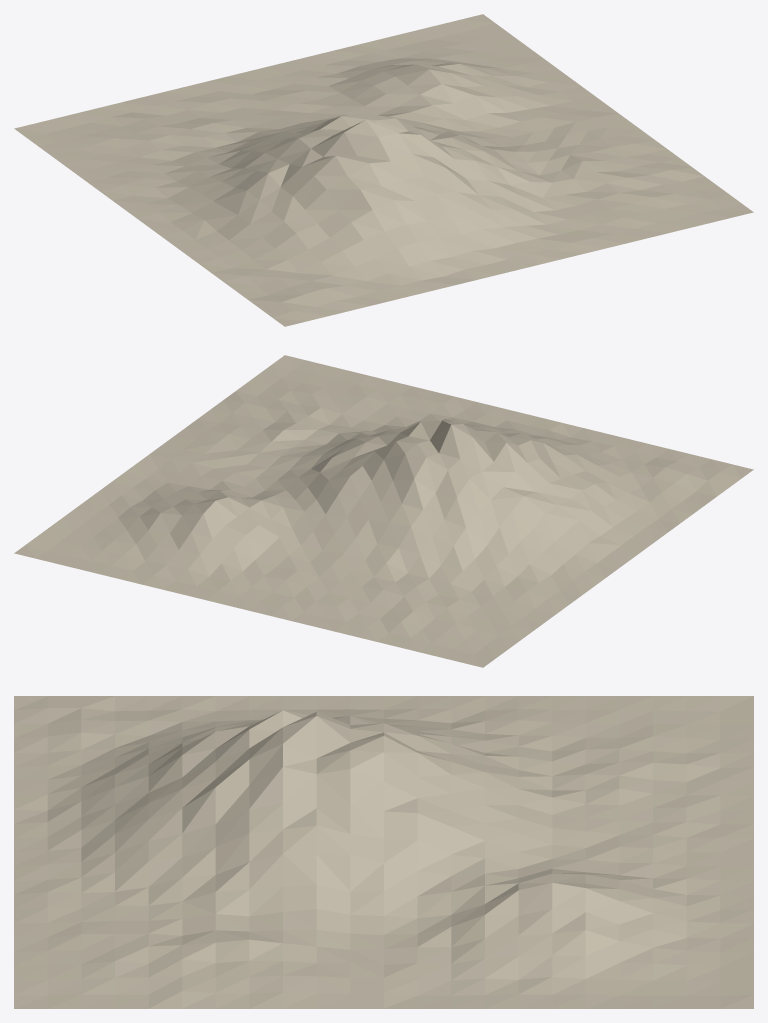
File: Ground_s_07.fbx
3 renders of one model, top to bottom at view 1: azimuth 30°, elevation 25°; view 2: azimuth 150°, elevation 25°; view 3: azimuth 270°, elevation 25°, orthographic. The views are drawn at different scales.
Parts seen in each view (by area): view 1: Ground_s_07; view 2: Ground_s_07; view 3: Ground_s_07.
Boxes of the visible parts, box(x1,y1,x2,y2) form: Ground_s_07: box(14, 14, 753, 326); Ground_s_07: box(14, 355, 753, 667); Ground_s_07: box(14, 696, 753, 1008).
Size of the model in its own units: 5000 by 816 by 5000.
